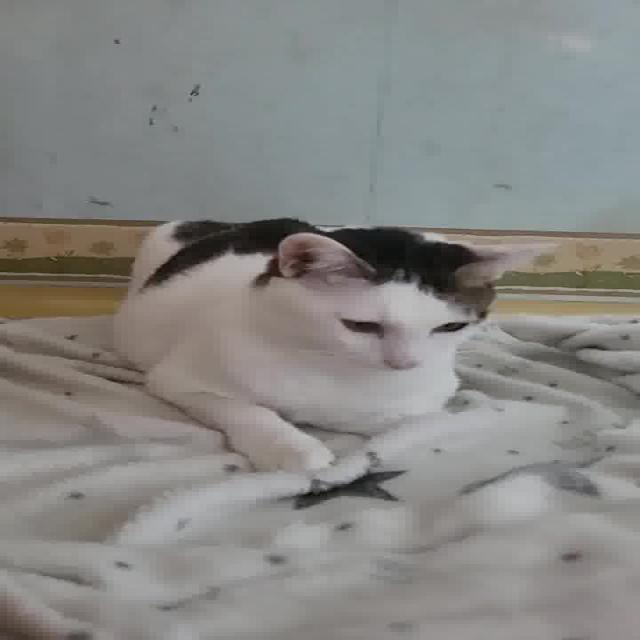cat: (114, 211, 575, 478)
